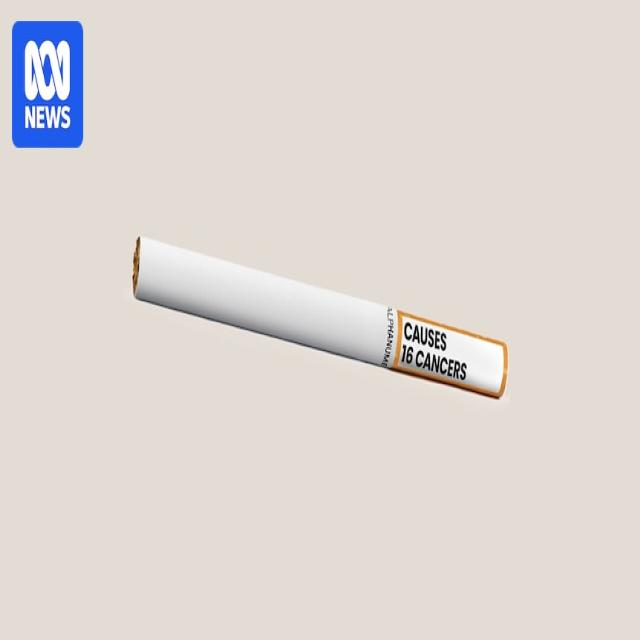Cigarette: (132, 237, 508, 399)
